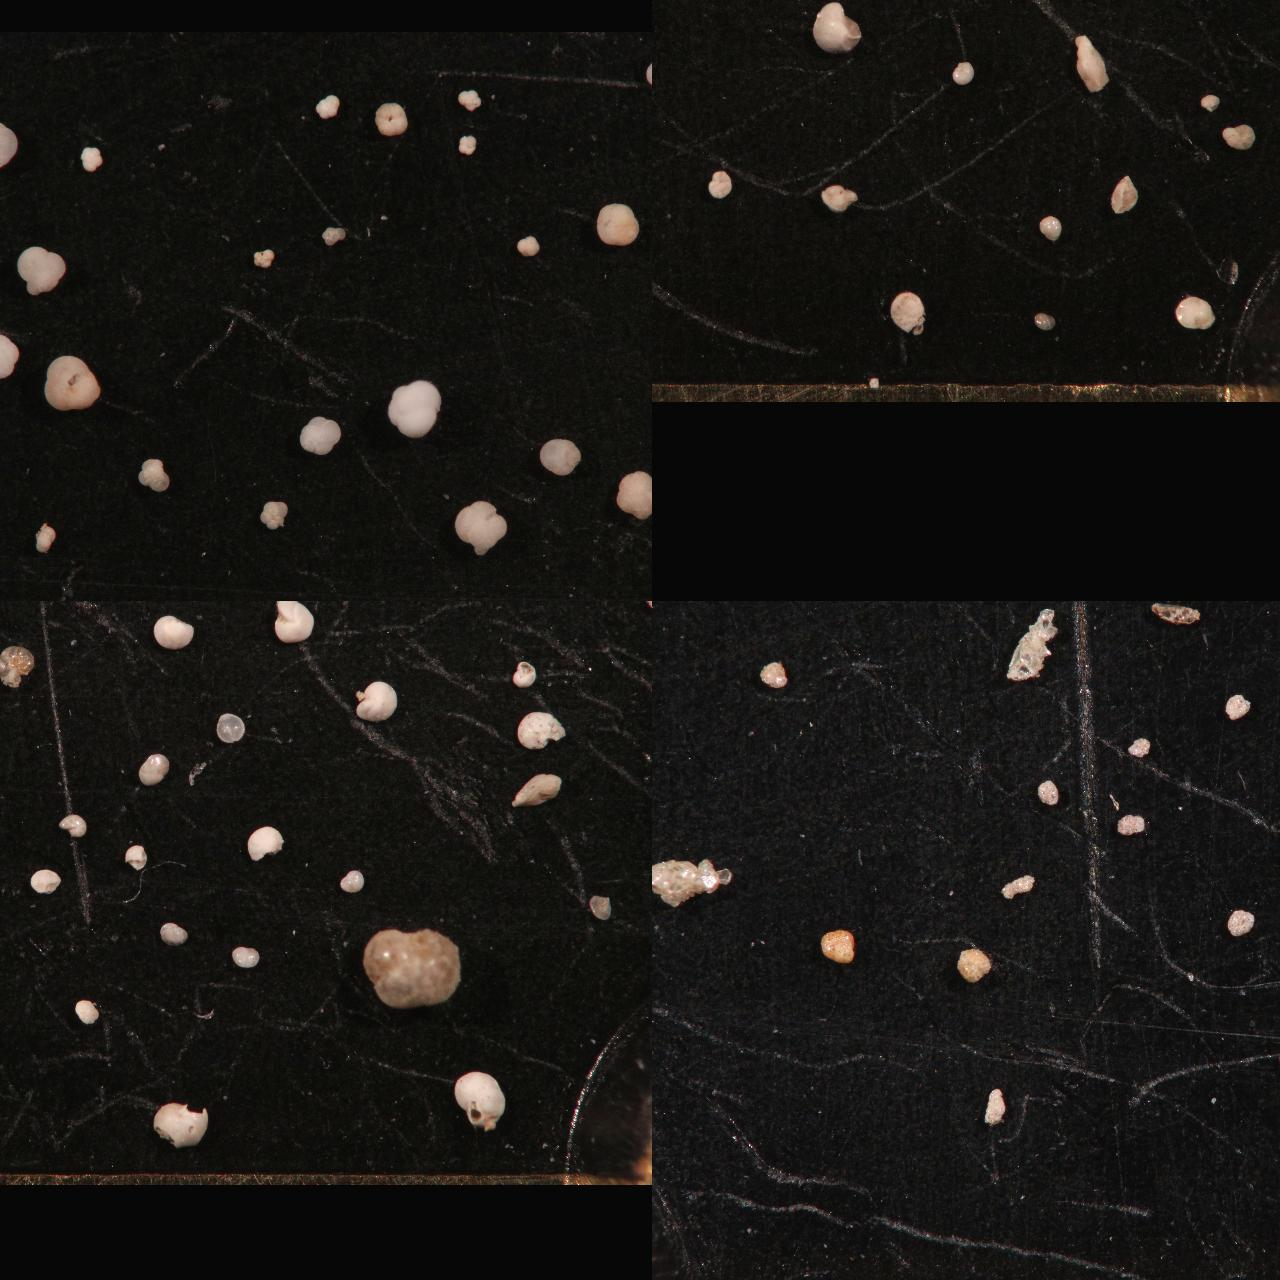agglutinated: (1005, 604, 1058, 680), (652, 857, 734, 906), (956, 945, 994, 981), (819, 926, 857, 961), (1151, 601, 1203, 622), (981, 1087, 1007, 1123), (1227, 907, 1257, 935), (1001, 873, 1036, 897), (761, 660, 790, 688), (1224, 692, 1253, 719), (1116, 812, 1146, 835), (1039, 778, 1060, 804), (1125, 736, 1152, 756), (652, 601, 669, 617), (847, 601, 872, 612)
calcareous: (365, 927, 463, 1012), (985, 0, 1121, 57), (449, 1070, 509, 1132), (810, 0, 864, 54), (152, 1099, 211, 1146), (1074, 32, 1110, 91), (516, 709, 568, 750), (509, 771, 565, 809), (354, 679, 401, 723), (652, 0, 695, 42), (272, 601, 315, 644), (857, 0, 912, 32), (70, 601, 130, 629), (888, 290, 927, 333), (652, 0, 689, 45), (0, 644, 38, 688), (152, 613, 198, 648), (652, 0, 689, 41), (1173, 293, 1214, 329), (246, 824, 286, 860), (0, 1014, 26, 1069), (1108, 172, 1141, 213), (730, 0, 779, 26), (819, 183, 860, 211), (652, 23, 678, 68), (137, 753, 170, 785), (1219, 123, 1258, 150), (216, 712, 246, 743), (29, 867, 63, 894), (0, 719, 23, 757), (706, 169, 735, 197), (652, 268, 673, 307), (586, 892, 614, 920), (59, 811, 89, 837), (0, 924, 19, 965), (511, 660, 538, 688), (159, 920, 189, 946), (949, 60, 976, 87), (73, 998, 100, 1024), (0, 852, 13, 907), (652, 0, 678, 27), (339, 867, 366, 893), (1039, 215, 1063, 241), (123, 844, 148, 871), (0, 618, 14, 663), (231, 946, 260, 967), (731, 0, 768, 16), (652, 220, 673, 248), (614, 601, 647, 619), (1032, 311, 1058, 332), (652, 215, 668, 248), (18, 601, 52, 618), (652, 0, 676, 21), (0, 805, 16, 837), (819, 0, 853, 15), (1251, 0, 1280, 18), (0, 983, 15, 1016), (0, 876, 15, 907), (652, 343, 668, 373), (1199, 91, 1221, 113), (0, 881, 16, 906), (322, 601, 353, 614), (0, 601, 23, 618), (281, 601, 311, 614), (652, 0, 669, 21), (0, 601, 21, 619), (652, 0, 670, 19), (0, 601, 19, 620), (1009, 0, 1042, 11), (433, 601, 462, 613), (234, 601, 264, 613), (0, 601, 22, 617), (0, 738, 12, 765), (0, 640, 13, 663), (602, 601, 631, 612), (1257, 0, 1280, 12), (1069, 0, 1094, 11), (558, 601, 583, 612), (1069, 0, 1092, 11), (0, 601, 14, 619), (155, 601, 181, 611), (0, 1064, 13, 1083), (652, 0, 667, 15), (0, 601, 14, 617), (652, 0, 666, 13)
planktic: (384, 377, 444, 440), (41, 353, 102, 411), (450, 497, 510, 553), (15, 244, 67, 297), (593, 199, 644, 245), (614, 469, 652, 519), (538, 436, 583, 476), (299, 415, 343, 455), (372, 100, 410, 136), (0, 120, 26, 169), (137, 457, 171, 491), (0, 331, 23, 379), (258, 498, 292, 530), (33, 520, 57, 553), (79, 143, 105, 171), (314, 91, 341, 118), (320, 224, 348, 246), (516, 233, 540, 257), (456, 89, 483, 109), (456, 132, 481, 154), (251, 247, 275, 267), (0, 30, 14, 52)
